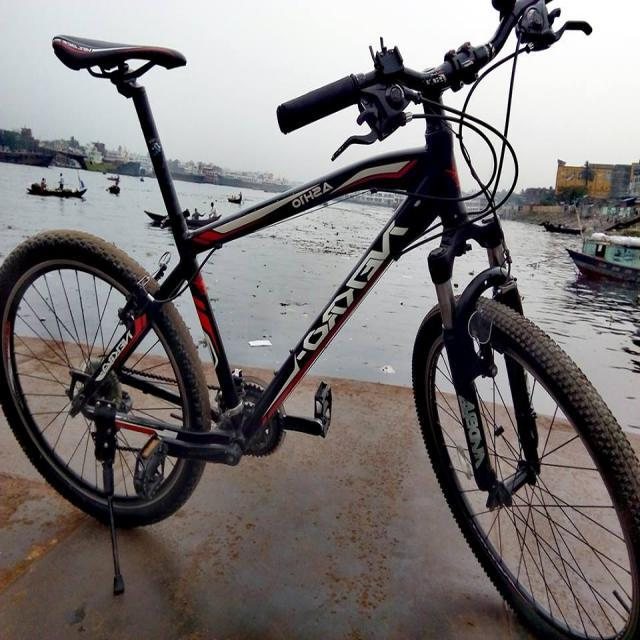Bicycle: (1, 1, 640, 640)
